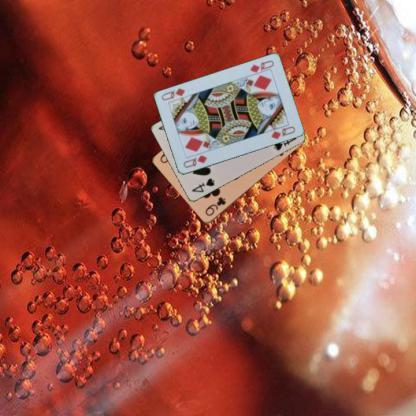4s: (189, 176, 216, 193)
9c: (202, 195, 227, 217)
Qd: (247, 58, 275, 78), (180, 152, 208, 170)
